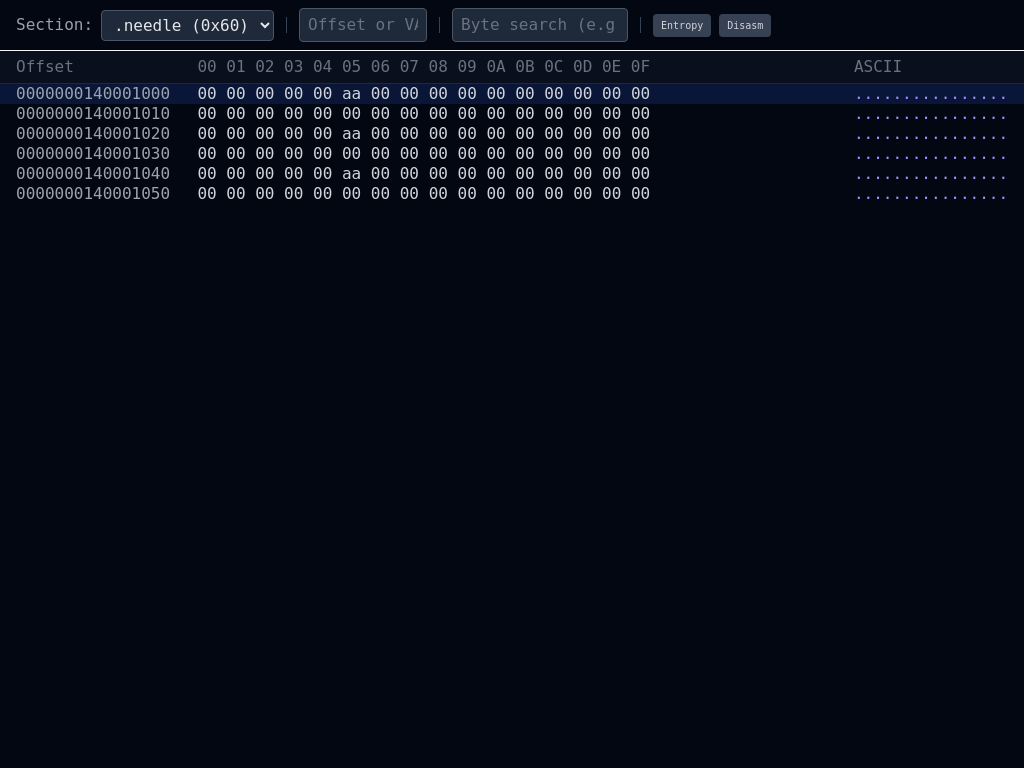
Test: HexView byte search navigation › steps forward through the matches in address order and wraps
In the field with placeholder "Byte search (e.g. 4D 5A ?? 00)...": (540, 25) [452,8,628,42], type "AA"
Wait 150 ms
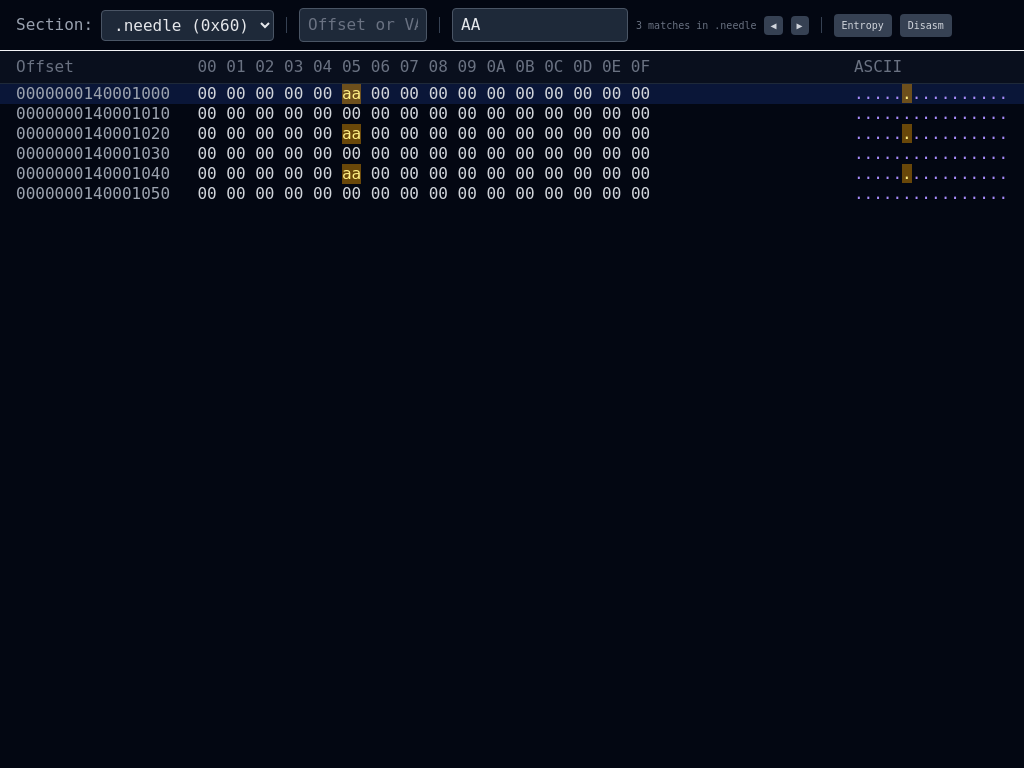
Expected: the text "3 matches in .needle" is shown, [636,18,756,32]
Click the button named "Next match": (800, 25) [790,16,808,34]
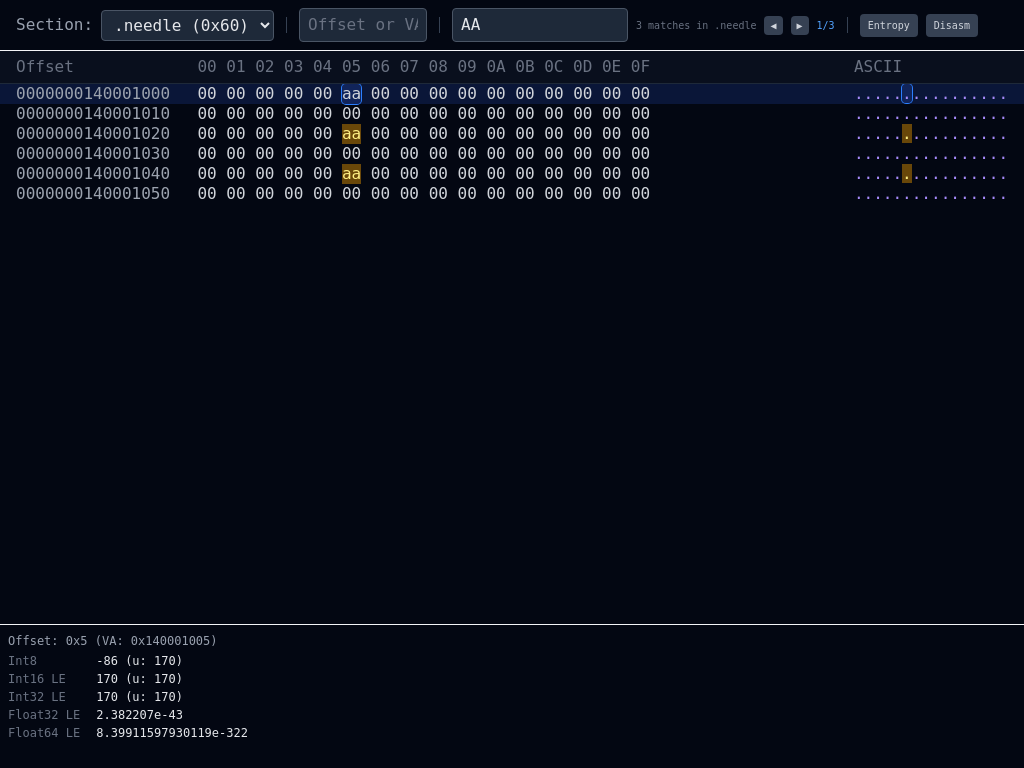
Expected: the text "1/3" is shown, [816,18,835,32]
Click the button named "Next match": (800, 25) [790,16,808,34]
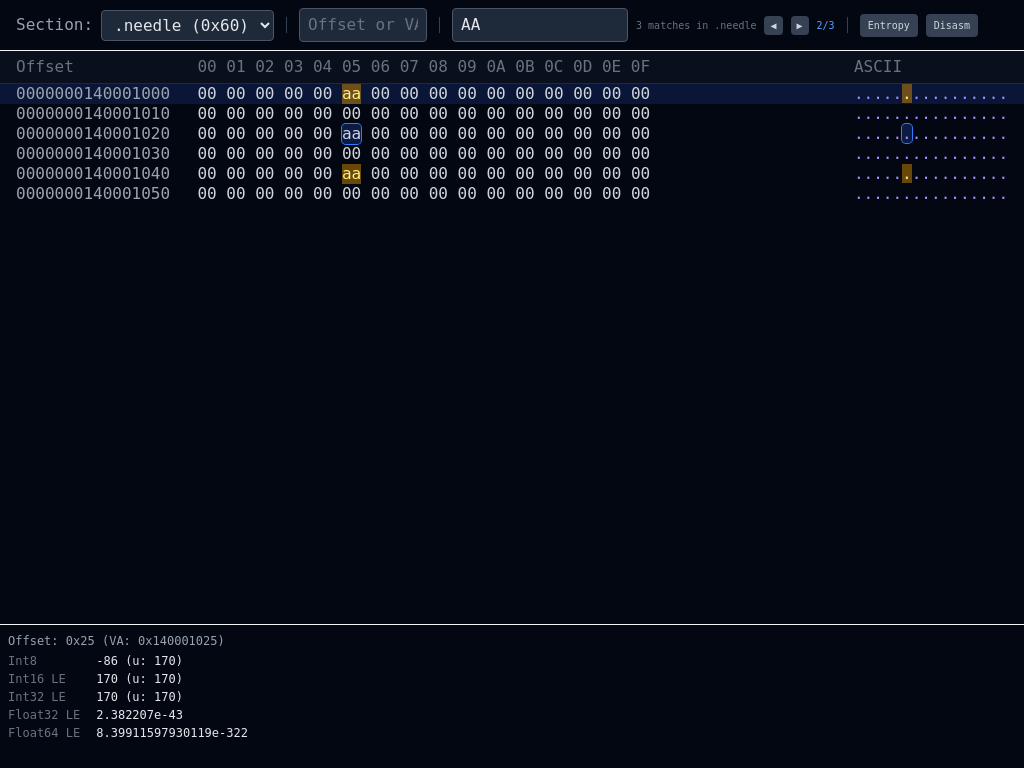
Click the button named "Next match": (800, 25) [790,16,808,34]
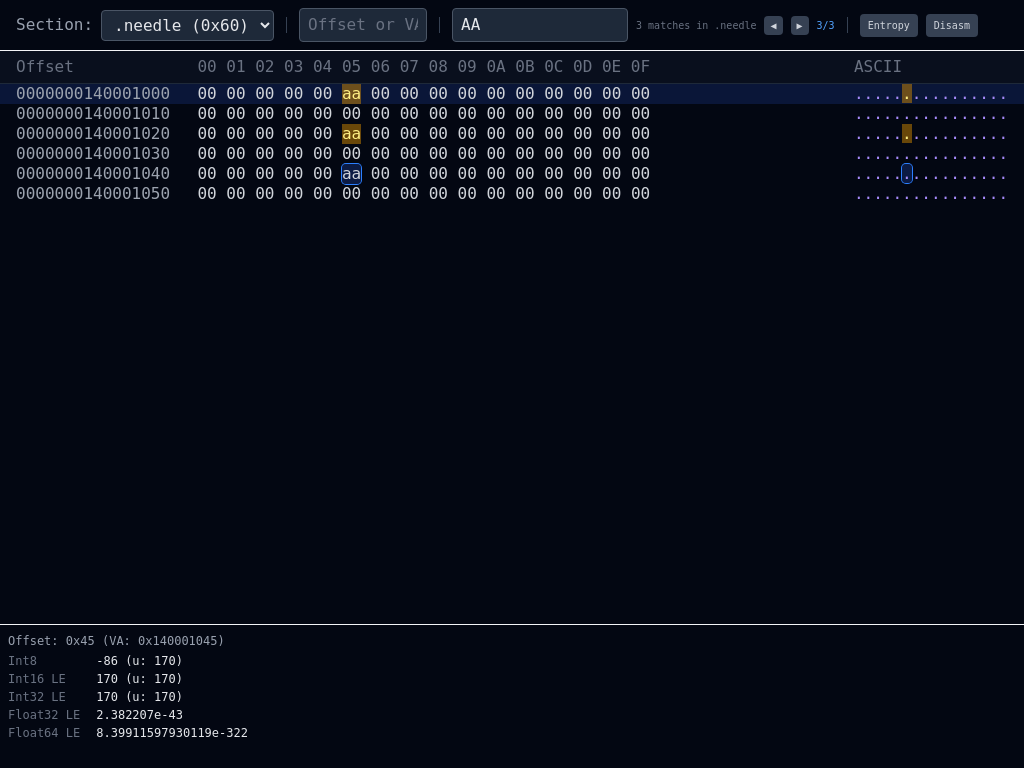
Expected: the text "3/3" is shown, [816,18,835,32]
Click the button named "Next match": (800, 25) [790,16,808,34]
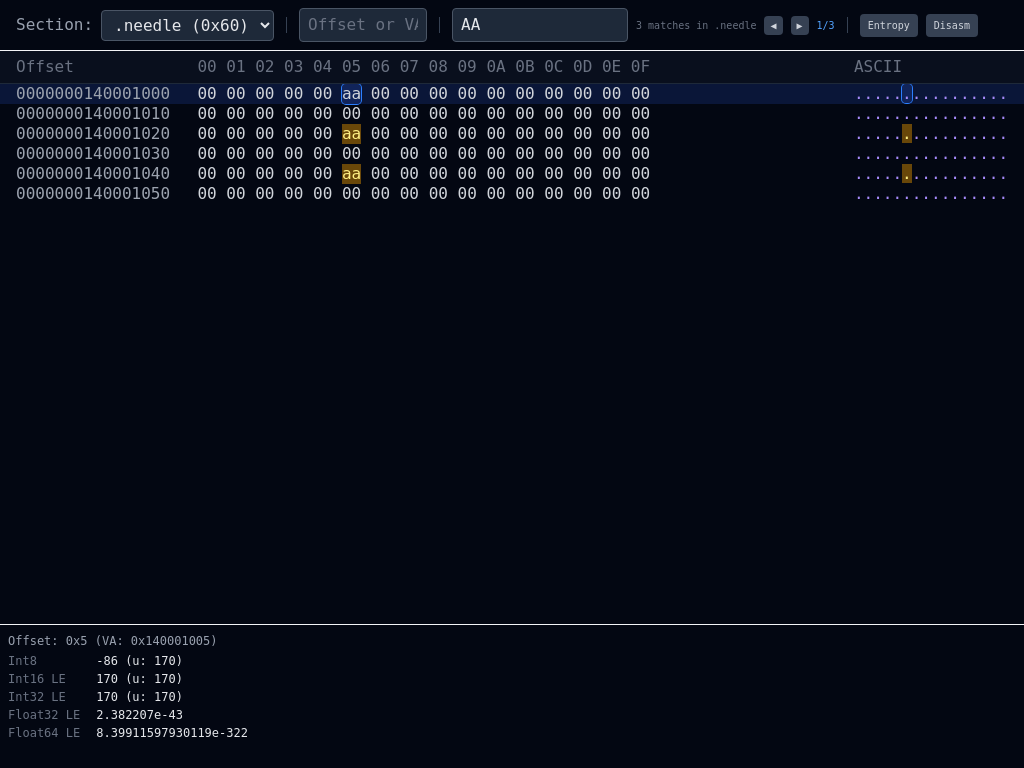
Expected: the text "1/3" is shown, [816,18,835,32]
